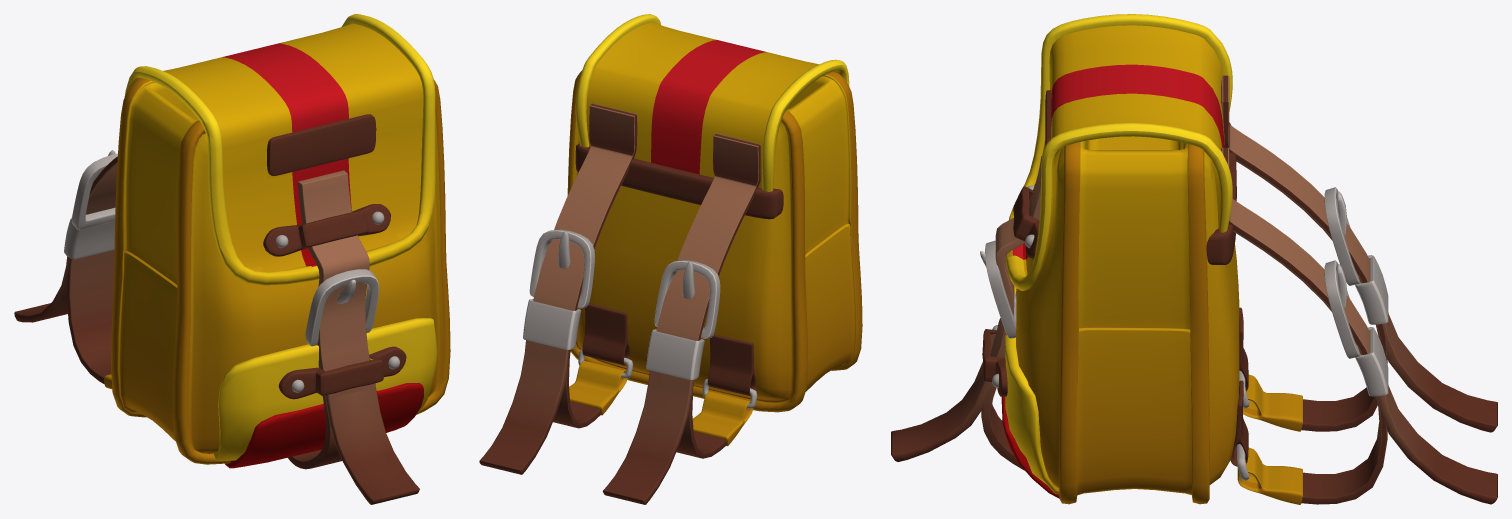
The model's file is SM_BackPack_39.fbx.
3 renders of one model, left to right at view 1: azimuth 30°, elevation 25°; view 2: azimuth 150°, elevation 25°; view 3: azimuth 270°, elevation 25°, orthographic. The views are drawn at different scales.
Visible parts, largest first — view 1: SM_BackPack_39; view 2: SM_BackPack_39; view 3: SM_BackPack_39.
Boxes of the visible parts, x1,y1,x2,y2 form: SM_BackPack_39: (14, 14, 450, 504); SM_BackPack_39: (479, 14, 862, 504); SM_BackPack_39: (891, 14, 1497, 504).
Bounding box in the file's own units: 92.87 × 124 × 171.
